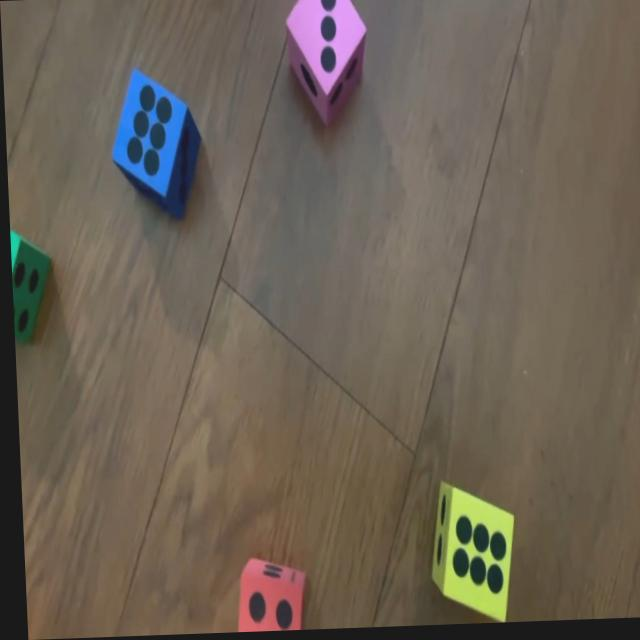blue_block: (107, 68, 202, 215)
red_block: (228, 559, 305, 634)
